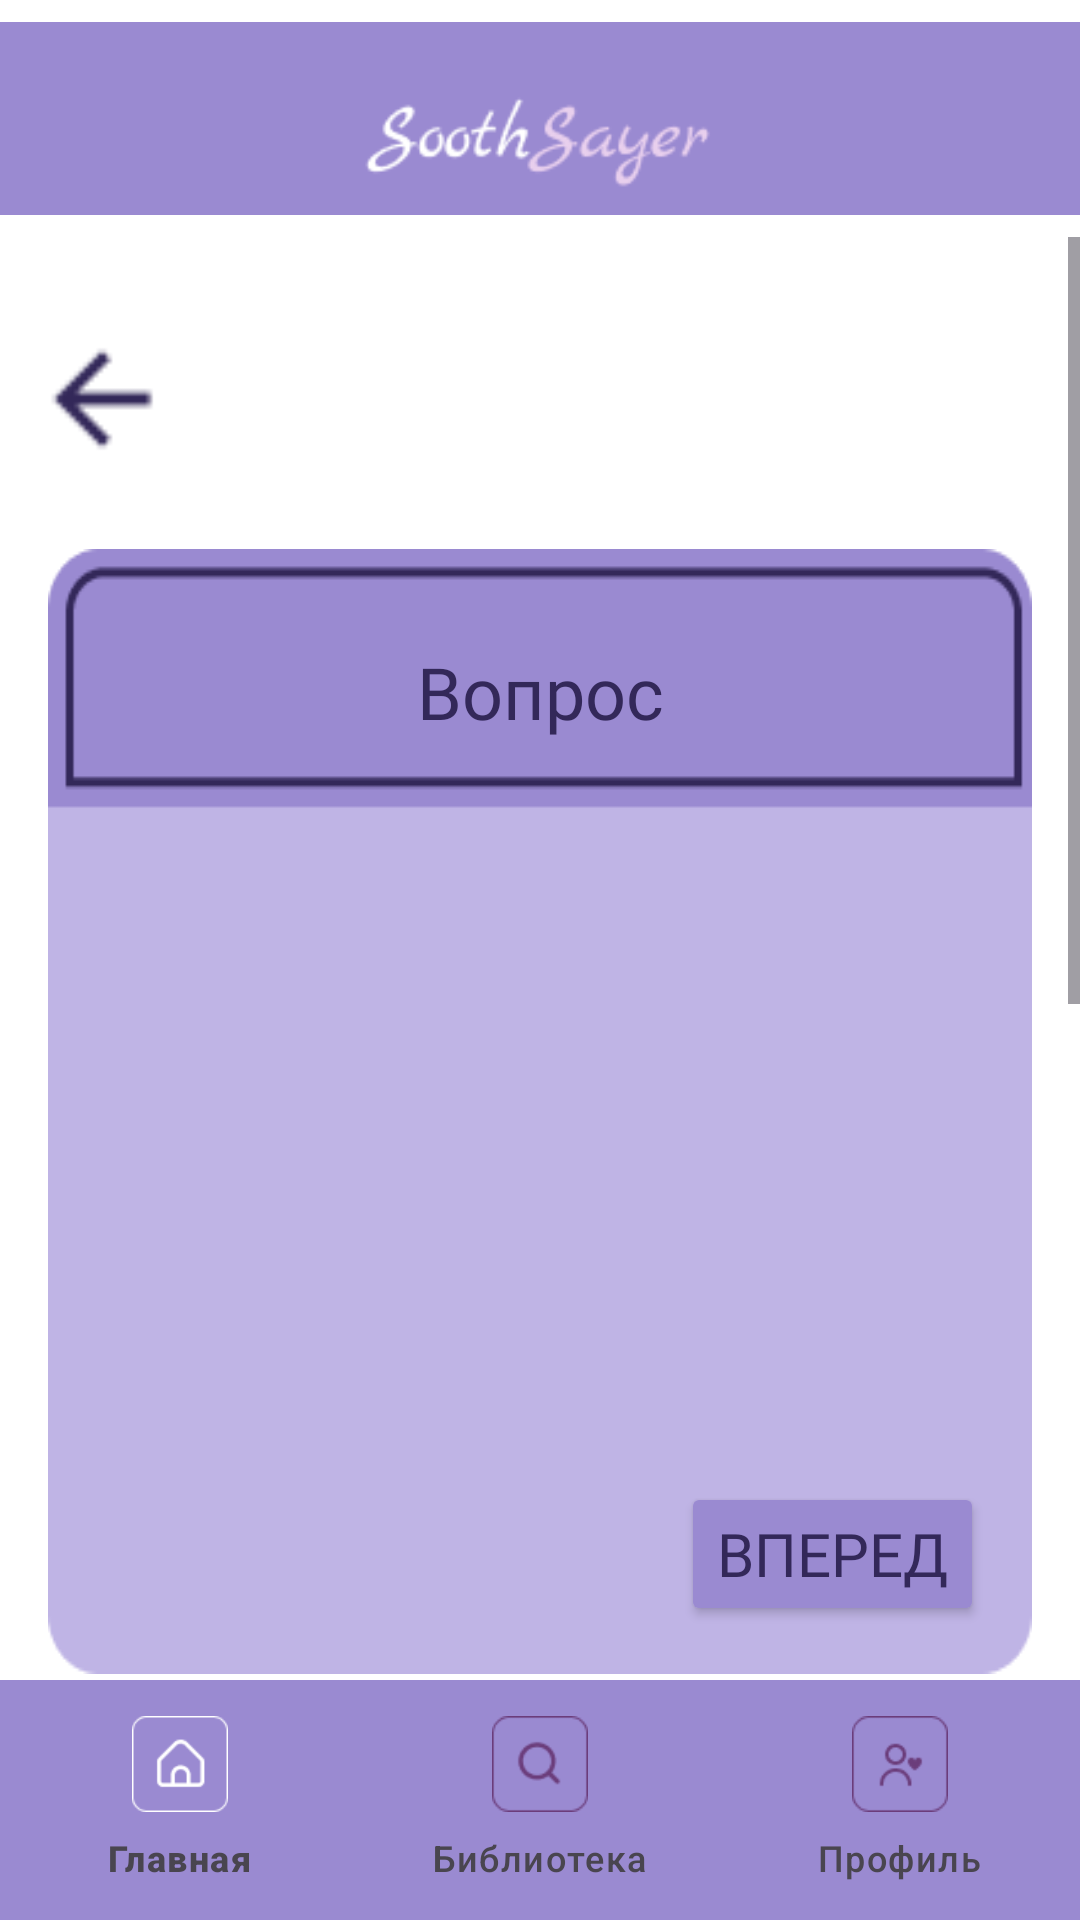

Screen size 1080px×1920px. Icon name, then its center in pixels as point (x, y):
back: point (103, 399)
